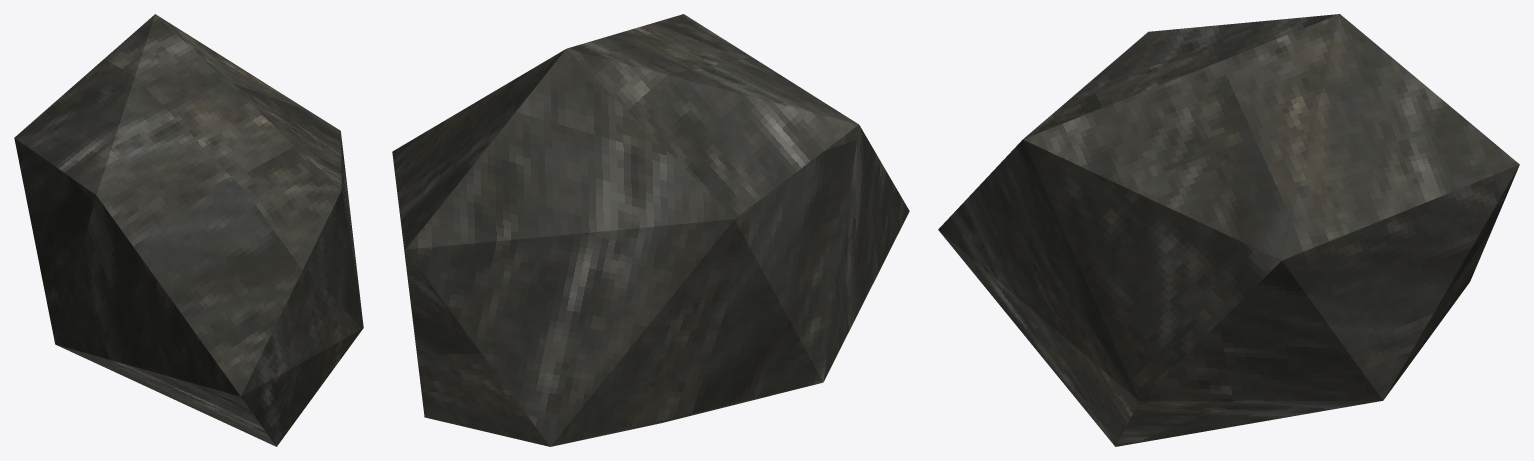
Rendered from rock.glb.
The picture shows the model from 3 angles, left to right: view 1: azimuth 30°, elevation 25°; view 2: azimuth 150°, elevation 25°; view 3: azimuth 270°, elevation 25°; orthographic projection. The views are drawn at different scales.
Parts seen in each view (by area): view 1: Rock; view 2: Rock; view 3: Rock.
Boxes of the visible parts, left/top/right/bottom form: Rock: left=14, top=14, right=363, bottom=446; Rock: left=392, top=14, right=909, bottom=446; Rock: left=938, top=14, right=1519, bottom=446.
Size of the model in its own units: 1.8 by 2.04 by 2.56.
1 material, 1 textured.
